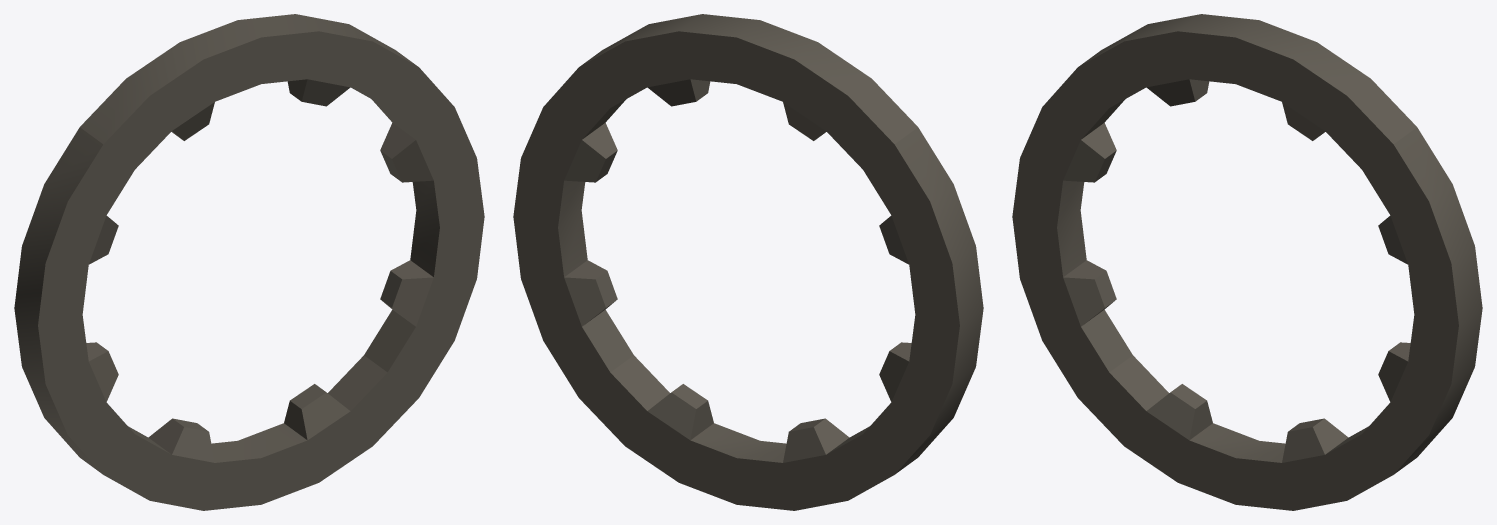
File: module-scope-01.glb
The picture shows the model from 3 angles, left to right: view 1: azimuth 30°, elevation 25°; view 2: azimuth 150°, elevation 25°; view 3: azimuth 330°, elevation 25°; orthographic projection.
Visible parts, largest first — view 1: Mesh_0; view 2: Mesh_0; view 3: Mesh_0.
Boxes of the visible parts, x1,y1,x2,y2 form: Mesh_0: [14, 14, 484, 510]; Mesh_0: [513, 14, 983, 510]; Mesh_0: [1012, 14, 1482, 510].
Bounding box in the file's own units: 2.4 × 2.4 × 0.2201.
Materials: 1 (1 with a texture image).
